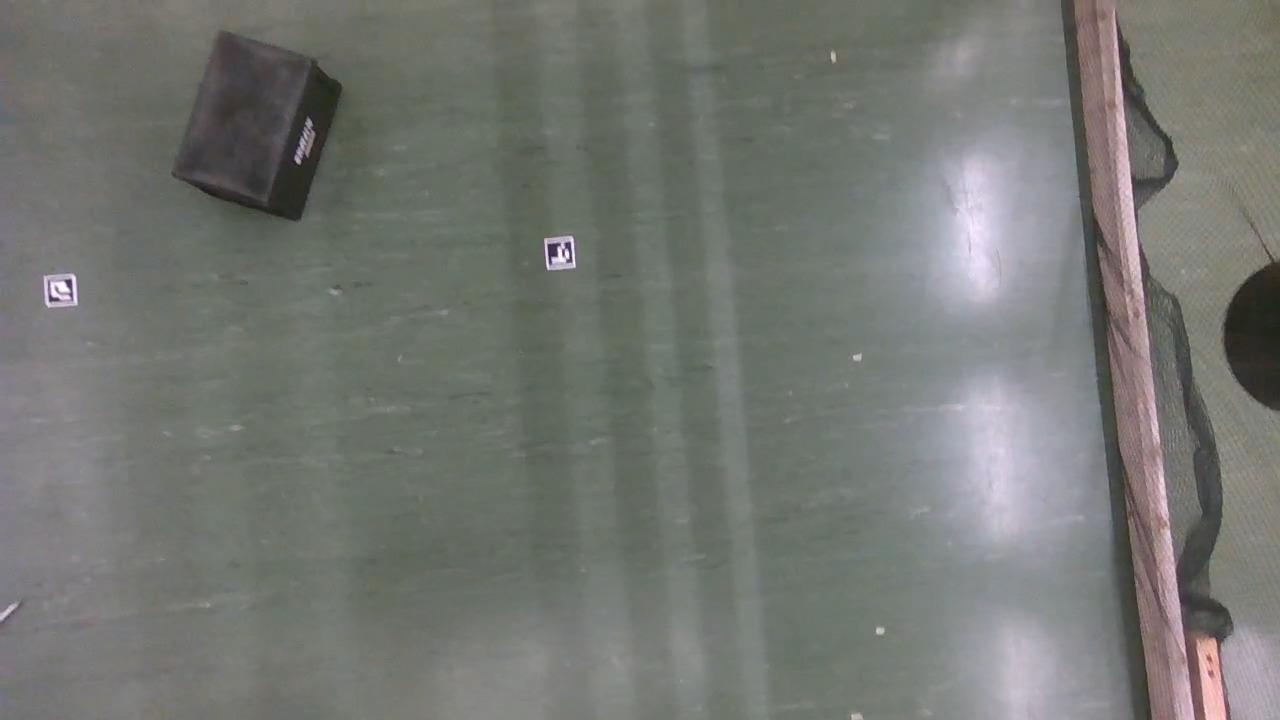probes: (0, 597, 23, 626)
rako: (172, 31, 345, 224)
